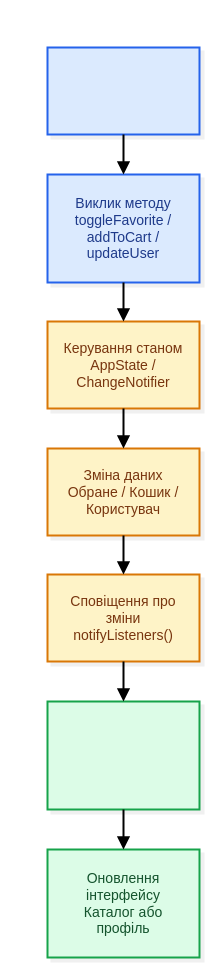
Some shapes in this 221 by 979 pixel diagram are drawn without their labels. The shapes that lost their labels are listed below. From the top down, each one's centre as x and y in pixels, then its label:
At (125,92): "Дія користувача Каталог або профіль".
At (125,757): "Віджет ListenableBuilder Отримання зміненого стану".
